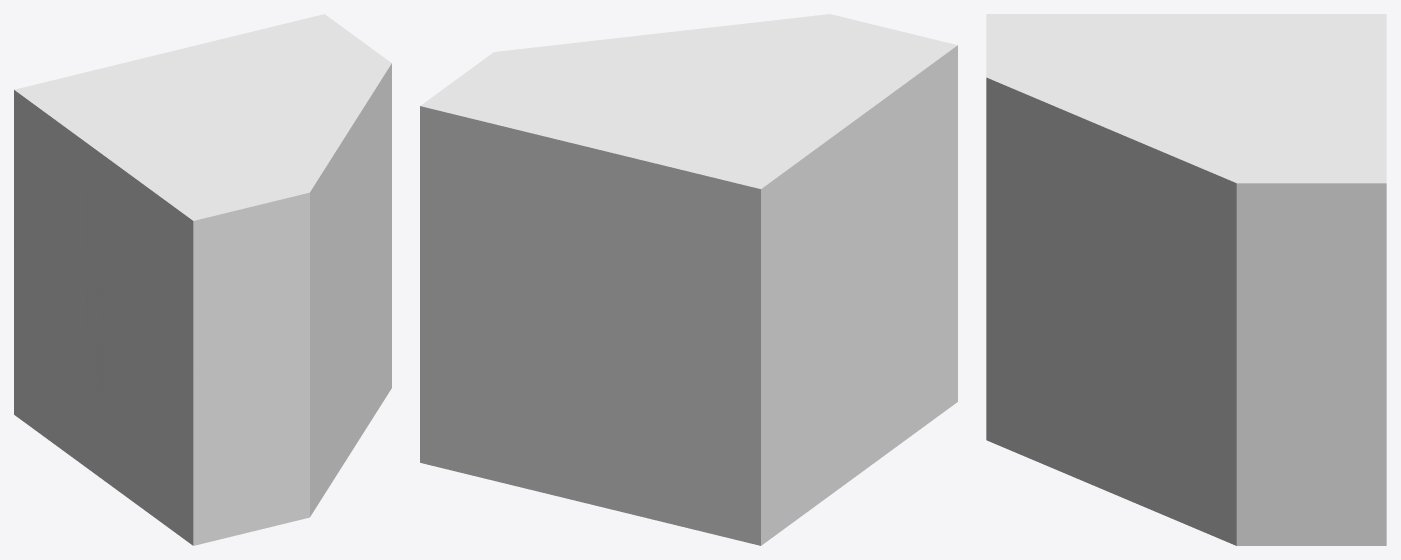
File: r3c8_bode_white.gltf
3 views of the same model, side by side, from view 1: azimuth 30°, elevation 25°; view 2: azimuth 150°, elevation 25°; view 3: azimuth 270°, elevation 25° (orthographic). The views are drawn at different scales.
Visible parts, largest first — view 1: r3c8_bode_white; view 2: r3c8_bode_white; view 3: r3c8_bode_white.
Boxes of the visible parts, x1=… form: r3c8_bode_white: x1=14, y1=14, x2=391, y2=545; r3c8_bode_white: x1=420, y1=14, x2=957, y2=545; r3c8_bode_white: x1=986, y1=14, x2=1386, y2=545.
Size of what is drawn, in the model's own units: 2 by 2 by 2.
1 material, 1 textured.
